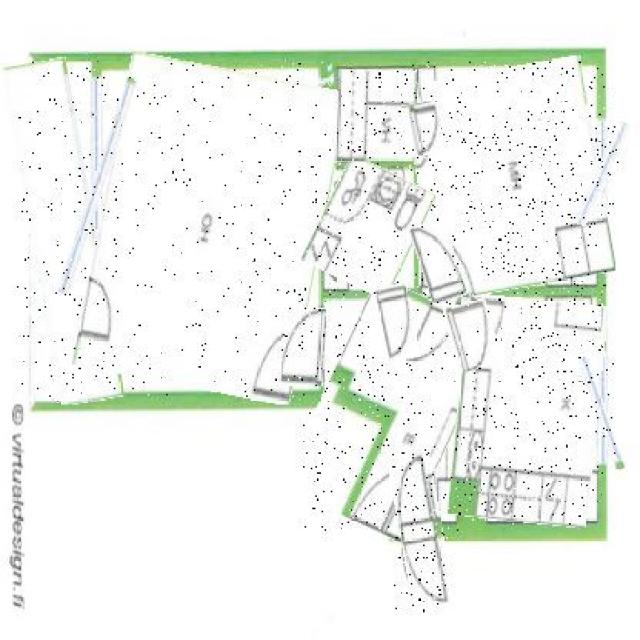door: (394, 446, 448, 612), (414, 220, 461, 303), (448, 298, 498, 371), (282, 308, 326, 386), (380, 285, 417, 360), (404, 101, 442, 157)
window: (75, 74, 120, 297), (585, 120, 620, 228), (588, 355, 615, 471)
zone: (86, 60, 334, 397), (411, 62, 606, 296), (302, 285, 478, 532), (454, 297, 603, 525), (17, 58, 109, 404), (311, 161, 426, 294), (337, 70, 415, 162)
